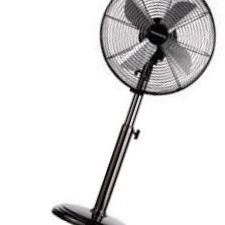fan: (60, 0, 217, 225)
